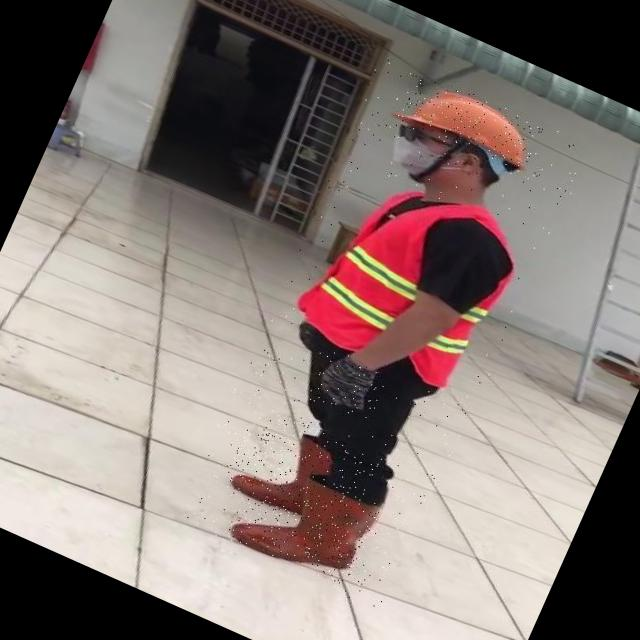hard_hat: (396, 70, 546, 176)
safety_vest: (290, 166, 534, 405)
vehicle: (173, 54, 592, 616)
work_boots: (221, 402, 390, 546), (226, 450, 384, 589)
